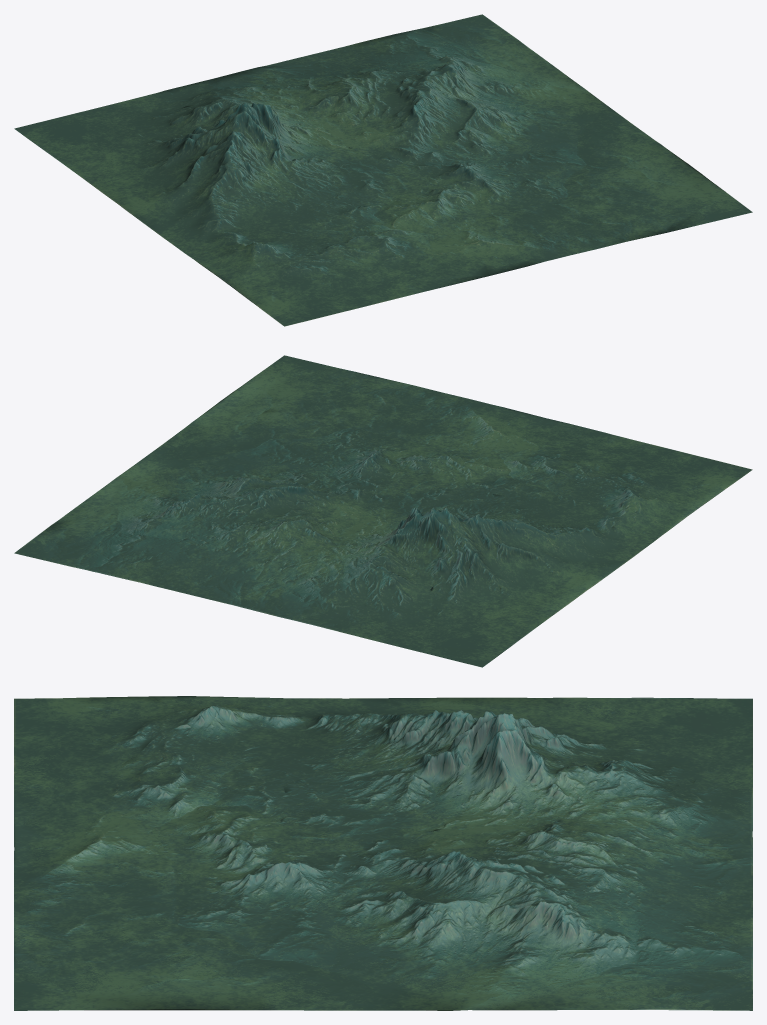
Rendered from SM_Landscape.fbx.
3 renders of one model, top to bottom at view 1: azimuth 30°, elevation 25°; view 2: azimuth 150°, elevation 25°; view 3: azimuth 270°, elevation 25°, orthographic. The views are drawn at different scales.
Visible parts, largest first — view 1: SM_Landscape_LOD0; view 2: SM_Landscape_LOD0; view 3: SM_Landscape_LOD0.
Boxes of the visible parts, x1=… form: SM_Landscape_LOD0: x1=14, y1=14, x2=752, y2=326; SM_Landscape_LOD0: x1=14, y1=355, x2=752, y2=667; SM_Landscape_LOD0: x1=14, y1=696, x2=752, y2=1010.
Bounding box in the file's own units: 200 × 200 × 23.78.
Materials: 1 (1 with a texture image).
